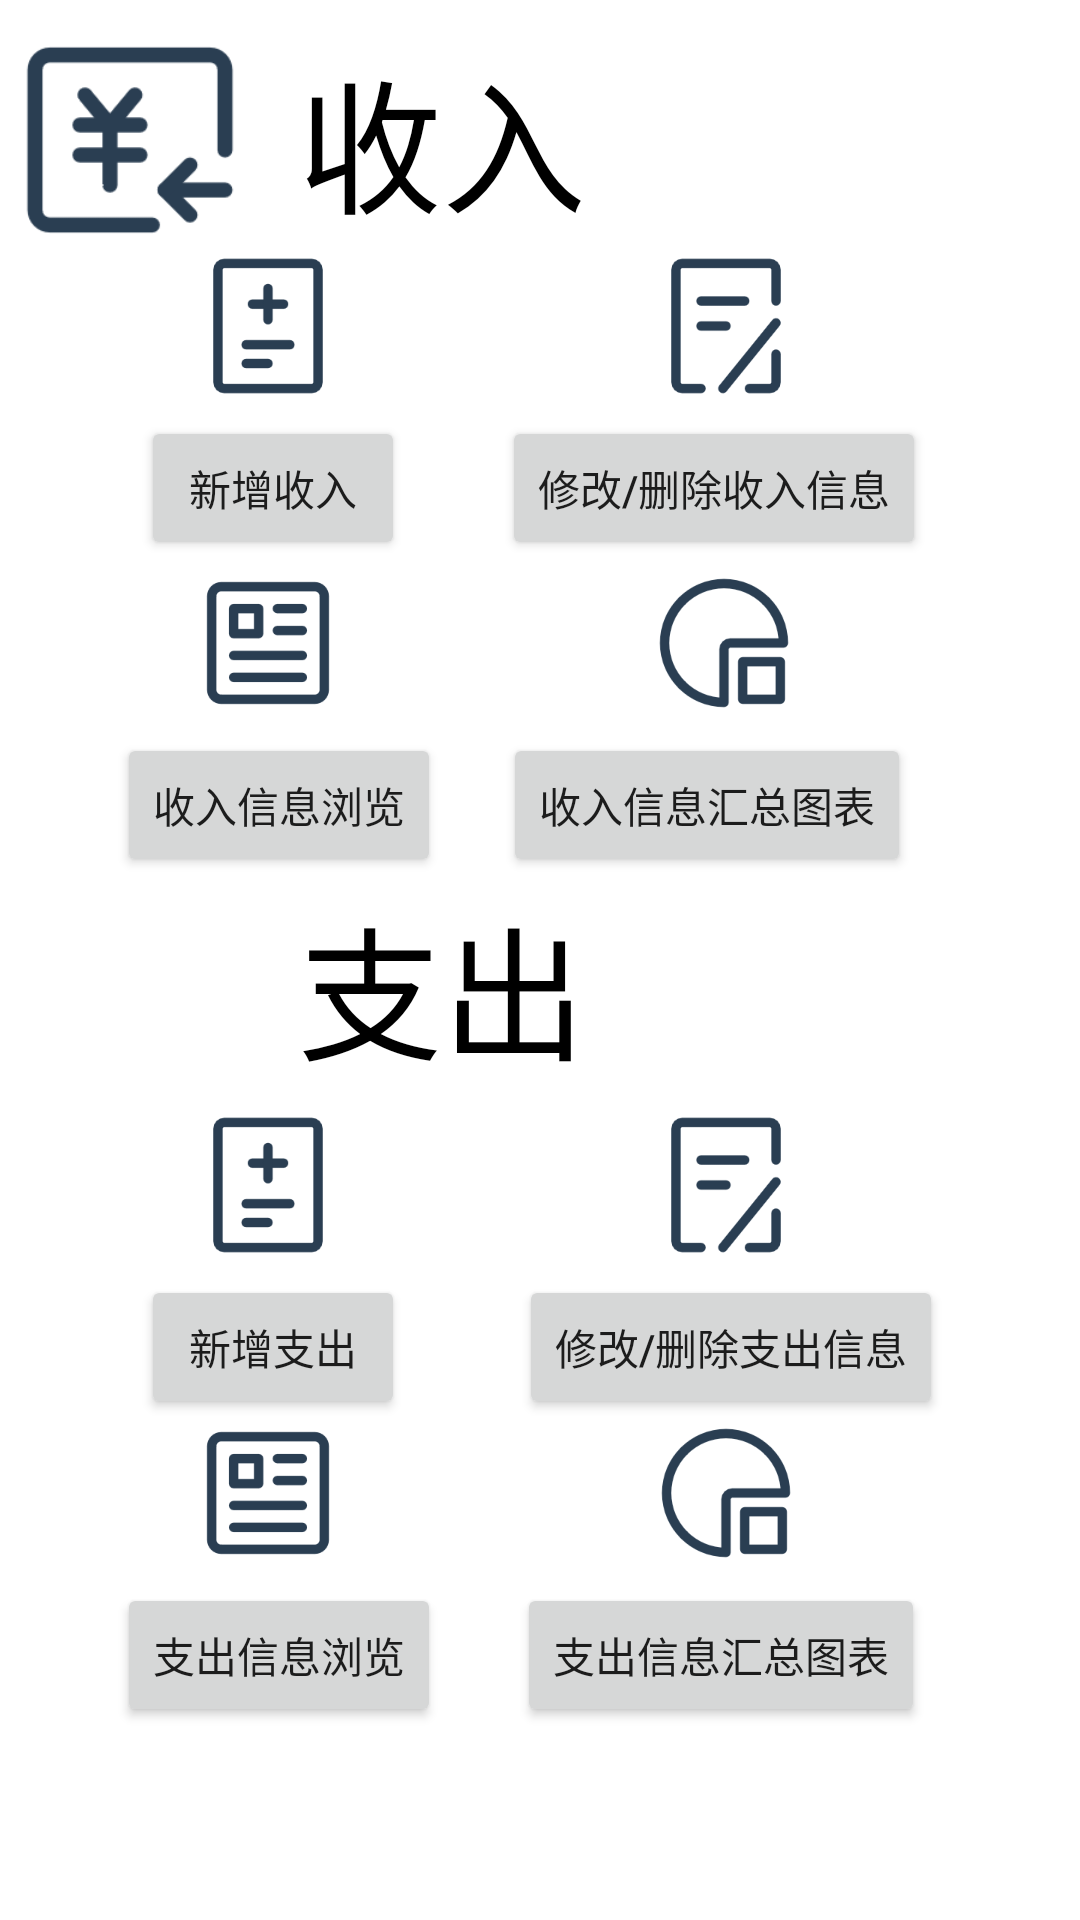

Screen size 1080×1920. Icon name, then its center in pixels as (x,y):
chart: (724,643), (726,1493)
docadd: (268,326), (268,1185)
editor: (726,326), (726,1185)
income: (130,140)
view: (268,643), (268,1493)
